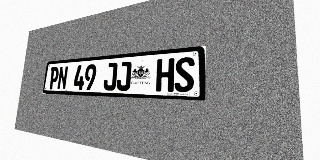4: (73, 65, 86, 90)
9: (84, 64, 97, 90)
H: (156, 58, 175, 92)
J: (116, 61, 132, 91), (103, 62, 118, 91)
N: (57, 66, 68, 90)
P: (48, 67, 59, 89)
S: (174, 57, 195, 92)
